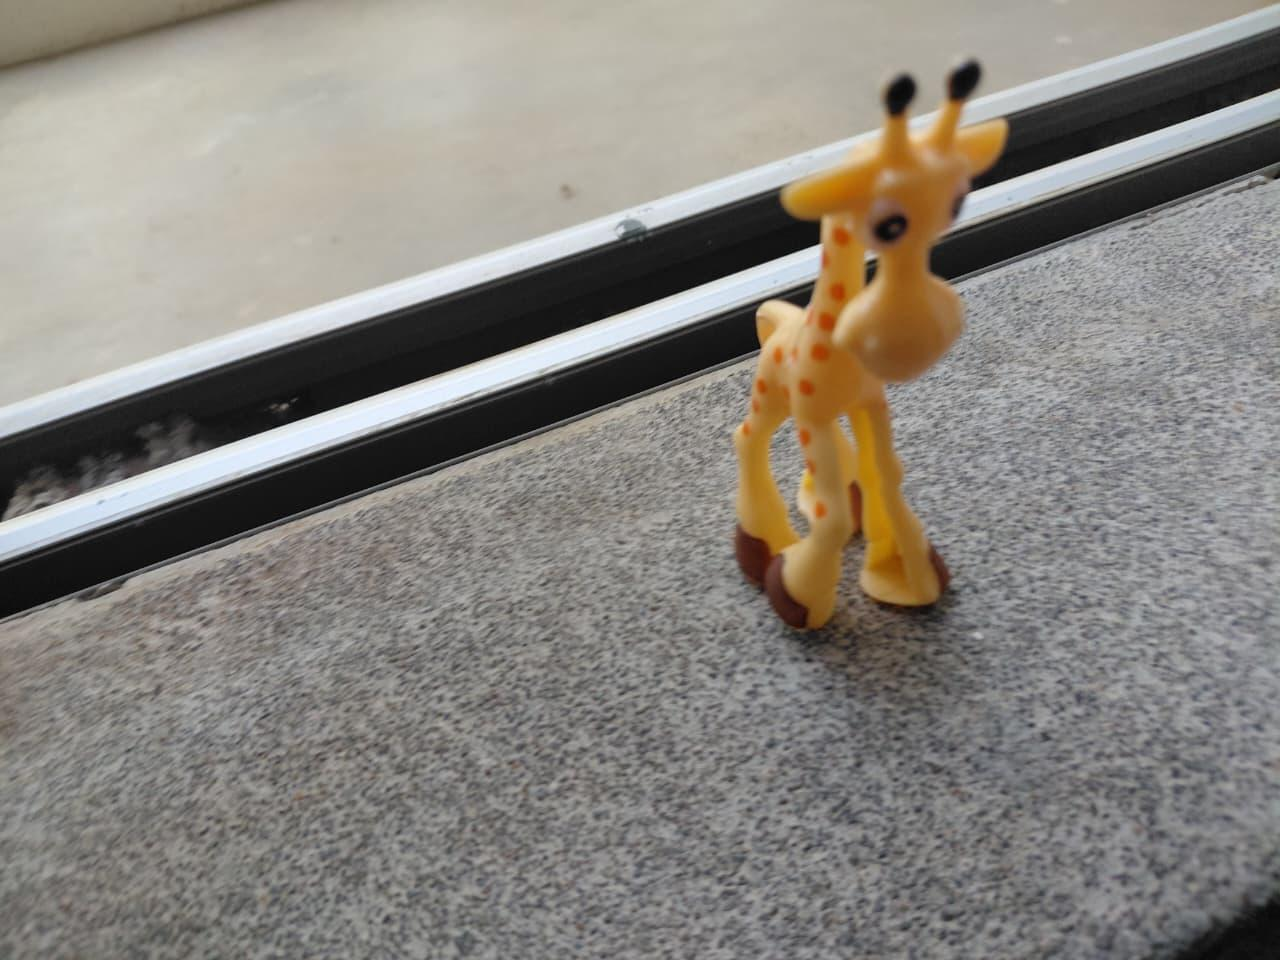giraffe: (696, 61, 1065, 642)
